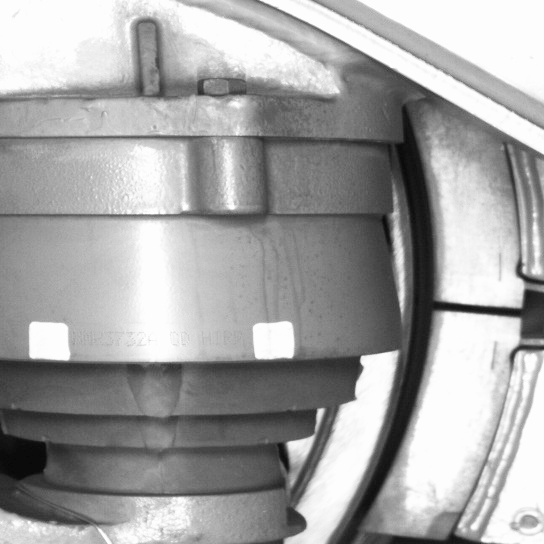KnifeSwitch: (320, 142, 511, 543)
